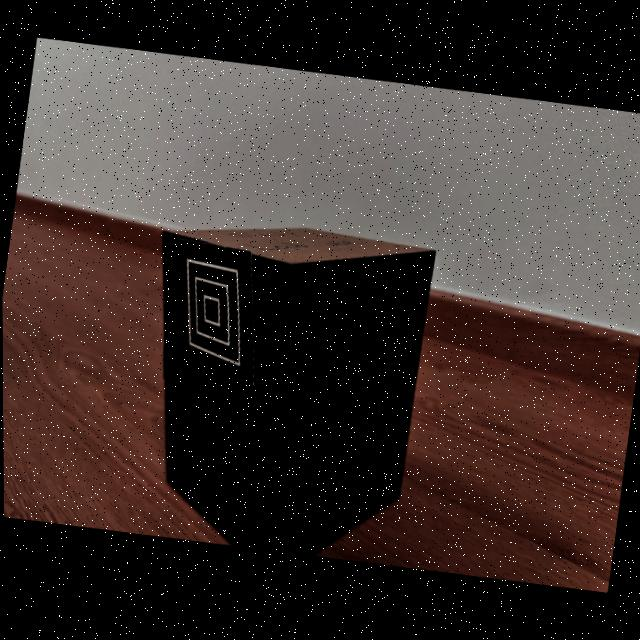BULLSEYE: (179, 240, 253, 391)
